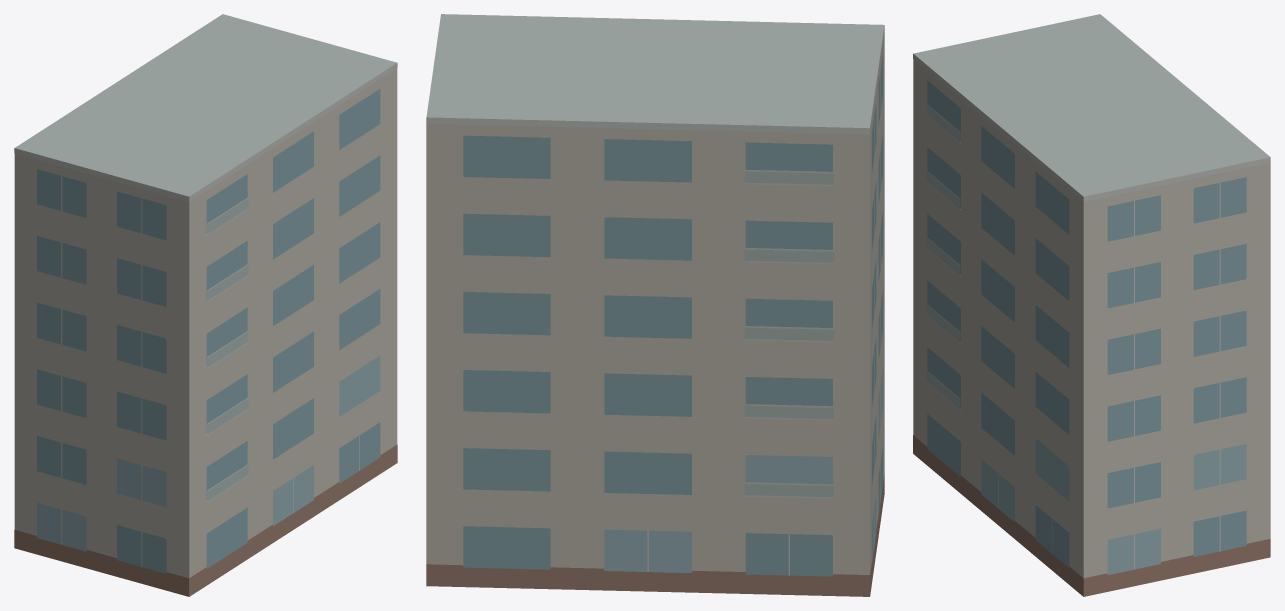
The model's file is survey-upis-32736721.glb.
3 views of the same model, side by side, from view 1: azimuth 30°, elevation 25°; view 2: azimuth 150°, elevation 25°; view 3: azimuth 270°, elevation 25° (orthographic). The views are drawn at different scales.
Parts seen in each view (by area): view 1: survey-upis-32736721.tmp; view 2: survey-upis-32736721.tmp; view 3: survey-upis-32736721.tmp.
Boxes of the visible parts, x1,y1,x2,y2 form: survey-upis-32736721.tmp: (14, 14, 397, 596); survey-upis-32736721.tmp: (426, 14, 884, 596); survey-upis-32736721.tmp: (913, 14, 1270, 596).
Bounding box in the file's own units: 17.64 × 18 × 14.58.
